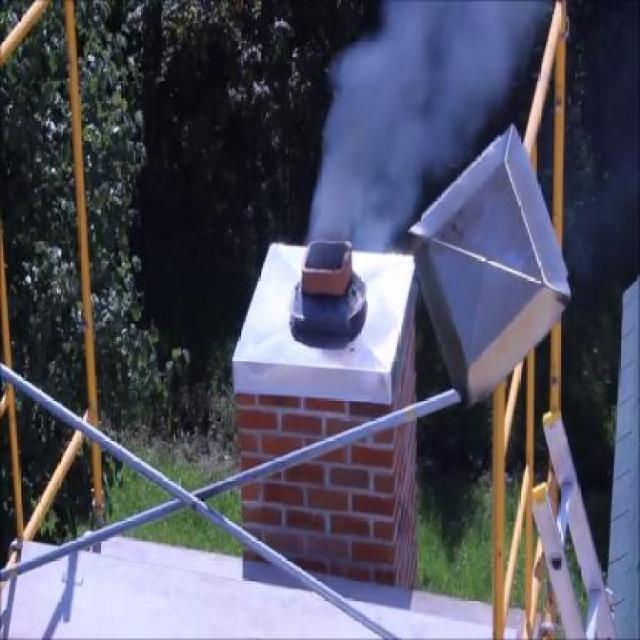smoke: (326, 112, 414, 245), (366, 8, 494, 96)
